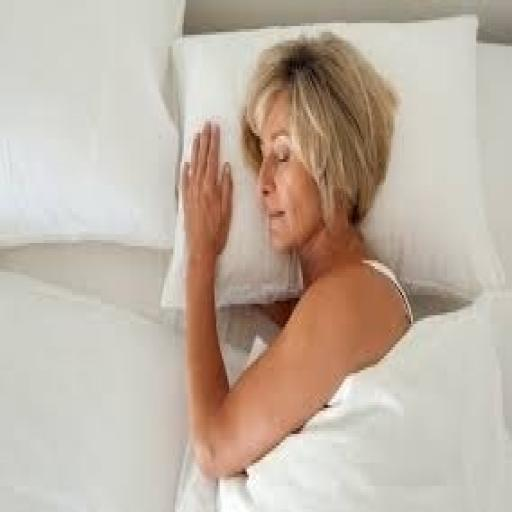sleeping: (172, 29, 416, 492)
